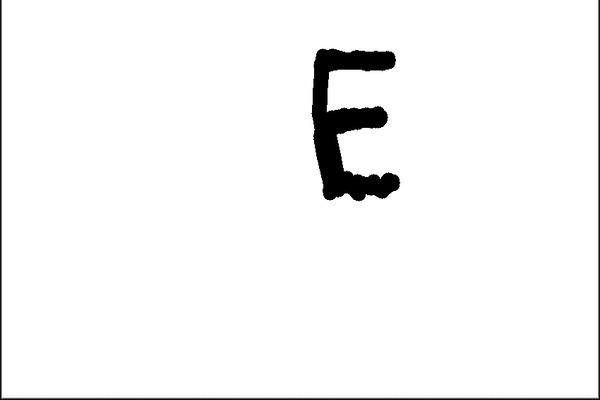E: (304, 43, 406, 205)
